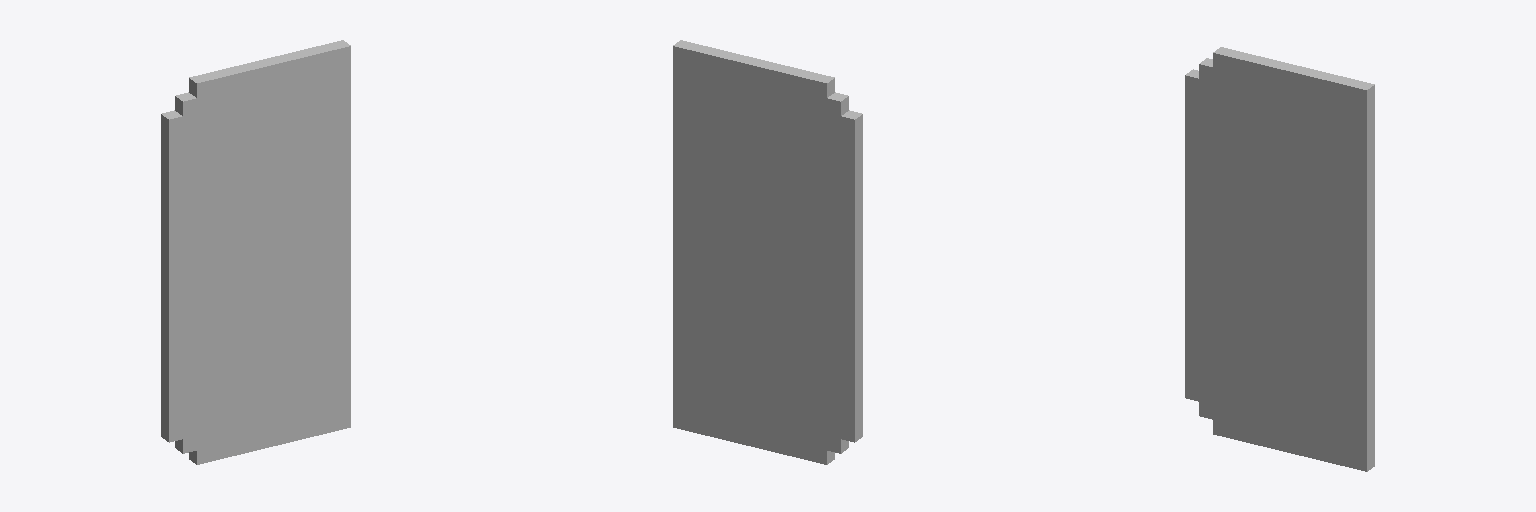
The model's file is door-leftside.obj.
3 renders of one model, left to right at view 1: azimuth 30°, elevation 25°; view 2: azimuth 150°, elevation 25°; view 3: azimuth 330°, elevation 25°, orthographic.
Bounding box in the file's own units: 13 × 26 × 1.